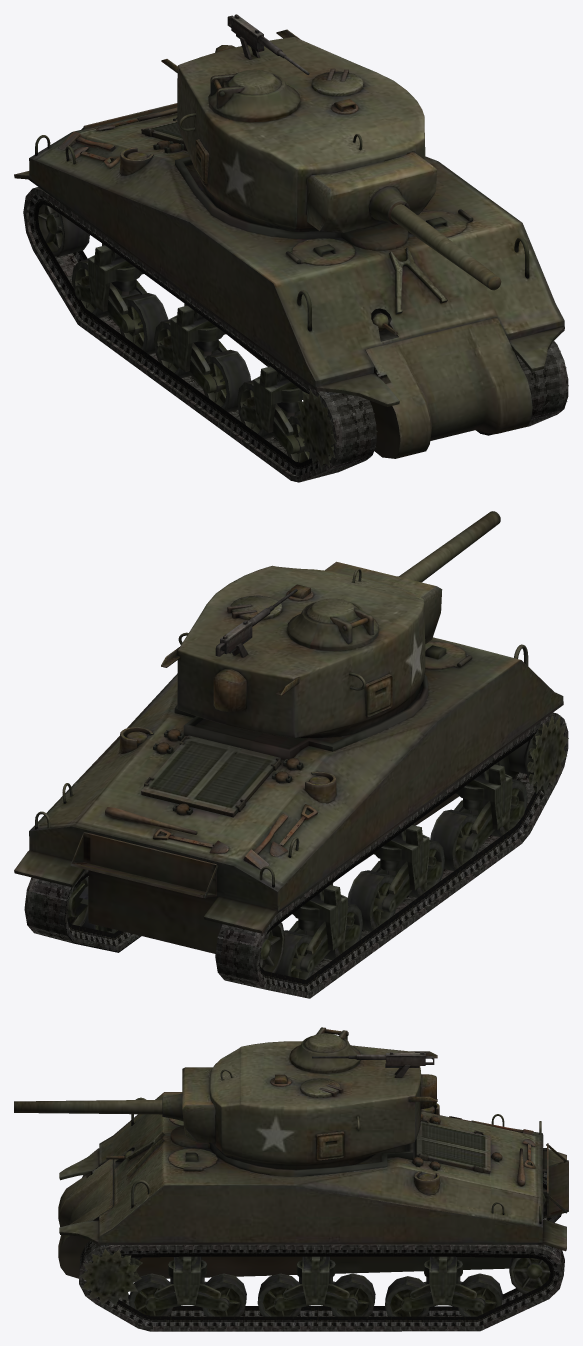
File: M4A1Sherman.FBX
The picture shows the model from 3 angles, top to bottom: view 1: azimuth 30°, elevation 25°; view 2: azimuth 150°, elevation 25°; view 3: azimuth 270°, elevation 25°; orthographic projection. The views are drawn at different scales.
Visible parts, largest first — view 1: MA41; view 2: MA41; view 3: MA41.
Boxes of the visible parts, x1,y1,x2,y2 form: MA41: (14, 14, 568, 482); MA41: (14, 511, 568, 998); MA41: (14, 1027, 568, 1331).
Size of the model in its own units: 1.29 by 1.52 by 3.21.
Materials: 3 (3 with a texture image).
